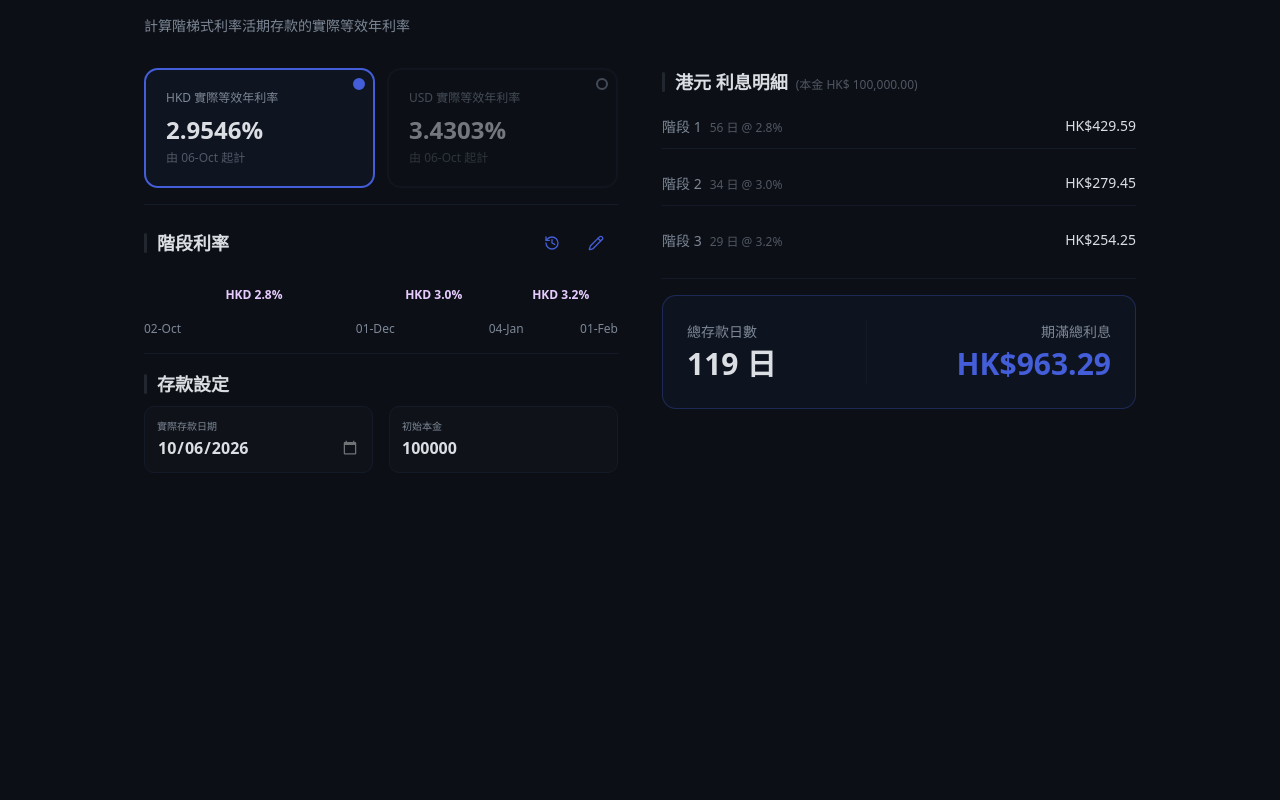
MarathonSavings history › shows both currencies and highlights the active currency in the history list
The width and height of the screenshot is (1280, 800).
What coordinates should you click on to do the following:
click the button named "歷史階段利率"
I would click on:
 (552, 243)
Its box is [530,221,574,265].
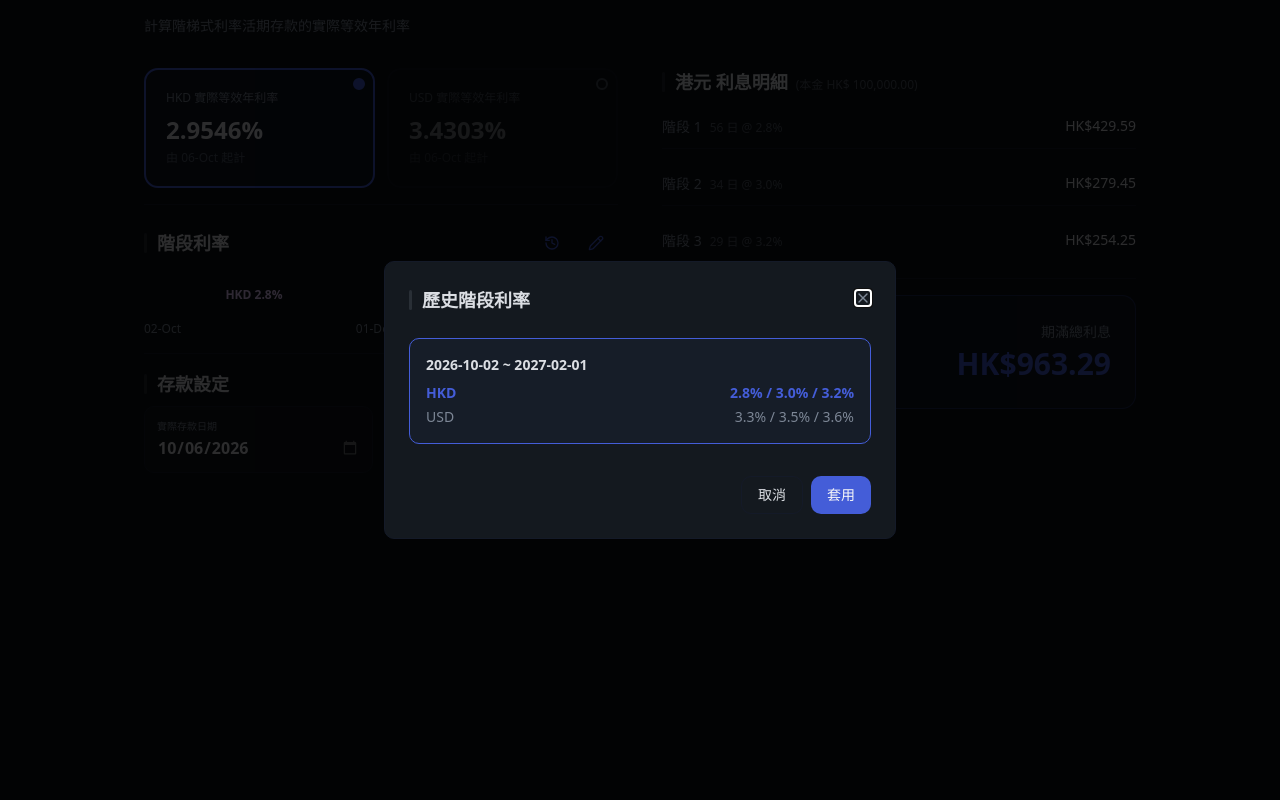
Now the text "2.8% / 3.0% / 3.2%" is shown, box [730,383,854,403]
Now the text "3.3% / 3.5% / 3.6%" is shown, box [735,407,854,427]
